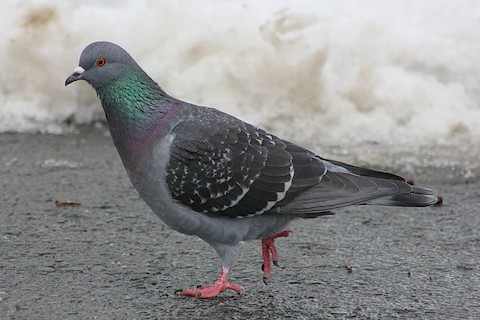pigeon: (62, 37, 447, 301)
